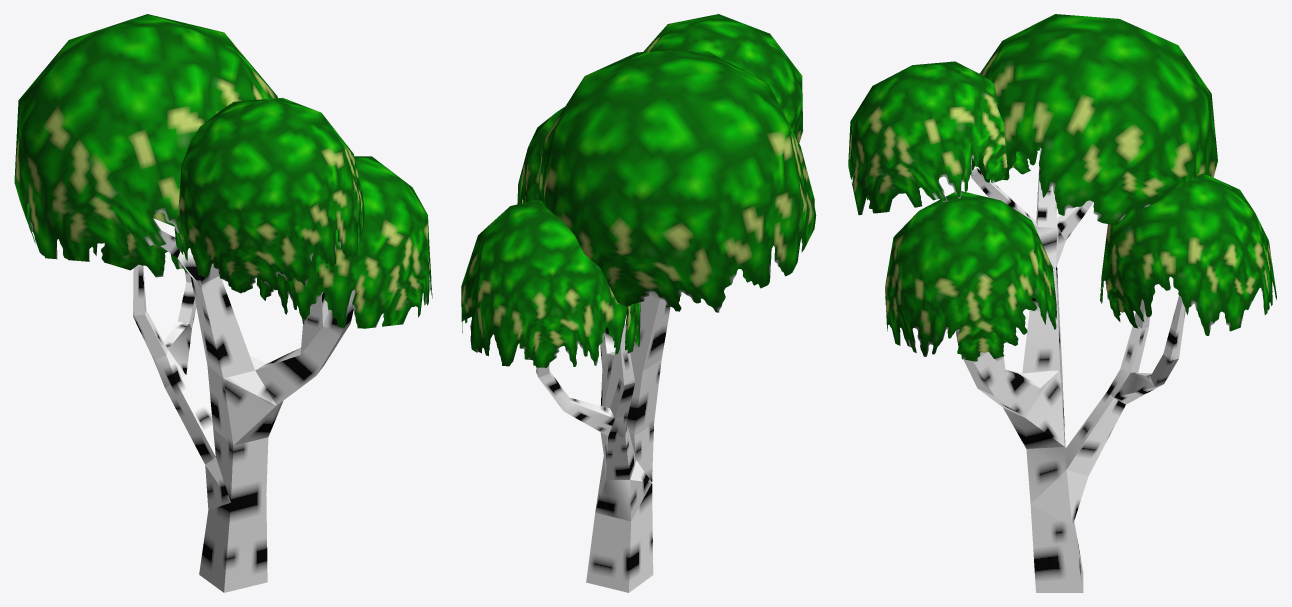
File: SM_Tree_G04.fbx
3 views of the same model, side by side, from view 1: azimuth 30°, elevation 25°; view 2: azimuth 150°, elevation 25°; view 3: azimuth 270°, elevation 25° (orthographic). The views are drawn at different scales.
Parts seen in each view (by area): view 1: SM_Tree_G04; view 2: SM_Tree_G04; view 3: SM_Tree_G04.
Boxes of the visible parts, box(x1,y1,x2,y2) form: SM_Tree_G04: box(14, 14, 432, 592); SM_Tree_G04: box(461, 14, 816, 592); SM_Tree_G04: box(848, 14, 1276, 592).
Bounding box in the file's own units: 142 × 230 × 170.
